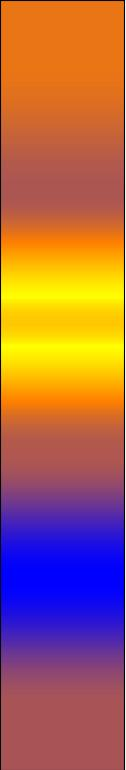Thermal Runaway: (9, 239, 114, 414), (5, 8, 116, 112)
critical: (6, 118, 115, 227), (15, 658, 108, 761), (9, 421, 111, 495)
safe: (11, 508, 115, 644)
